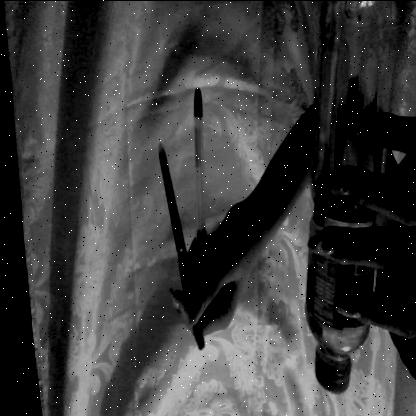Plastic Bottle: (290, 0, 402, 414)
